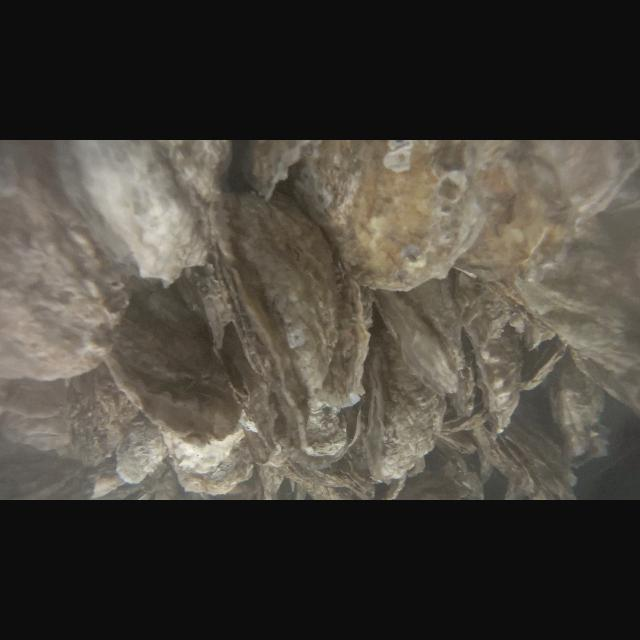Oyster-Closed: (220, 194, 370, 456), (517, 165, 640, 416), (0, 140, 120, 380), (300, 140, 486, 292), (454, 140, 640, 282), (72, 140, 232, 282), (111, 287, 241, 445), (364, 325, 436, 483), (484, 390, 576, 500), (452, 282, 556, 360), (69, 362, 139, 462), (549, 358, 607, 470), (276, 434, 370, 500), (162, 430, 254, 496), (178, 251, 234, 349), (392, 450, 484, 500), (472, 348, 524, 428), (238, 384, 286, 464), (116, 416, 166, 484), (252, 140, 306, 200), (0, 411, 66, 454), (0, 379, 66, 415), (522, 338, 562, 389)
Oyster-Open: (374, 278, 476, 418)
